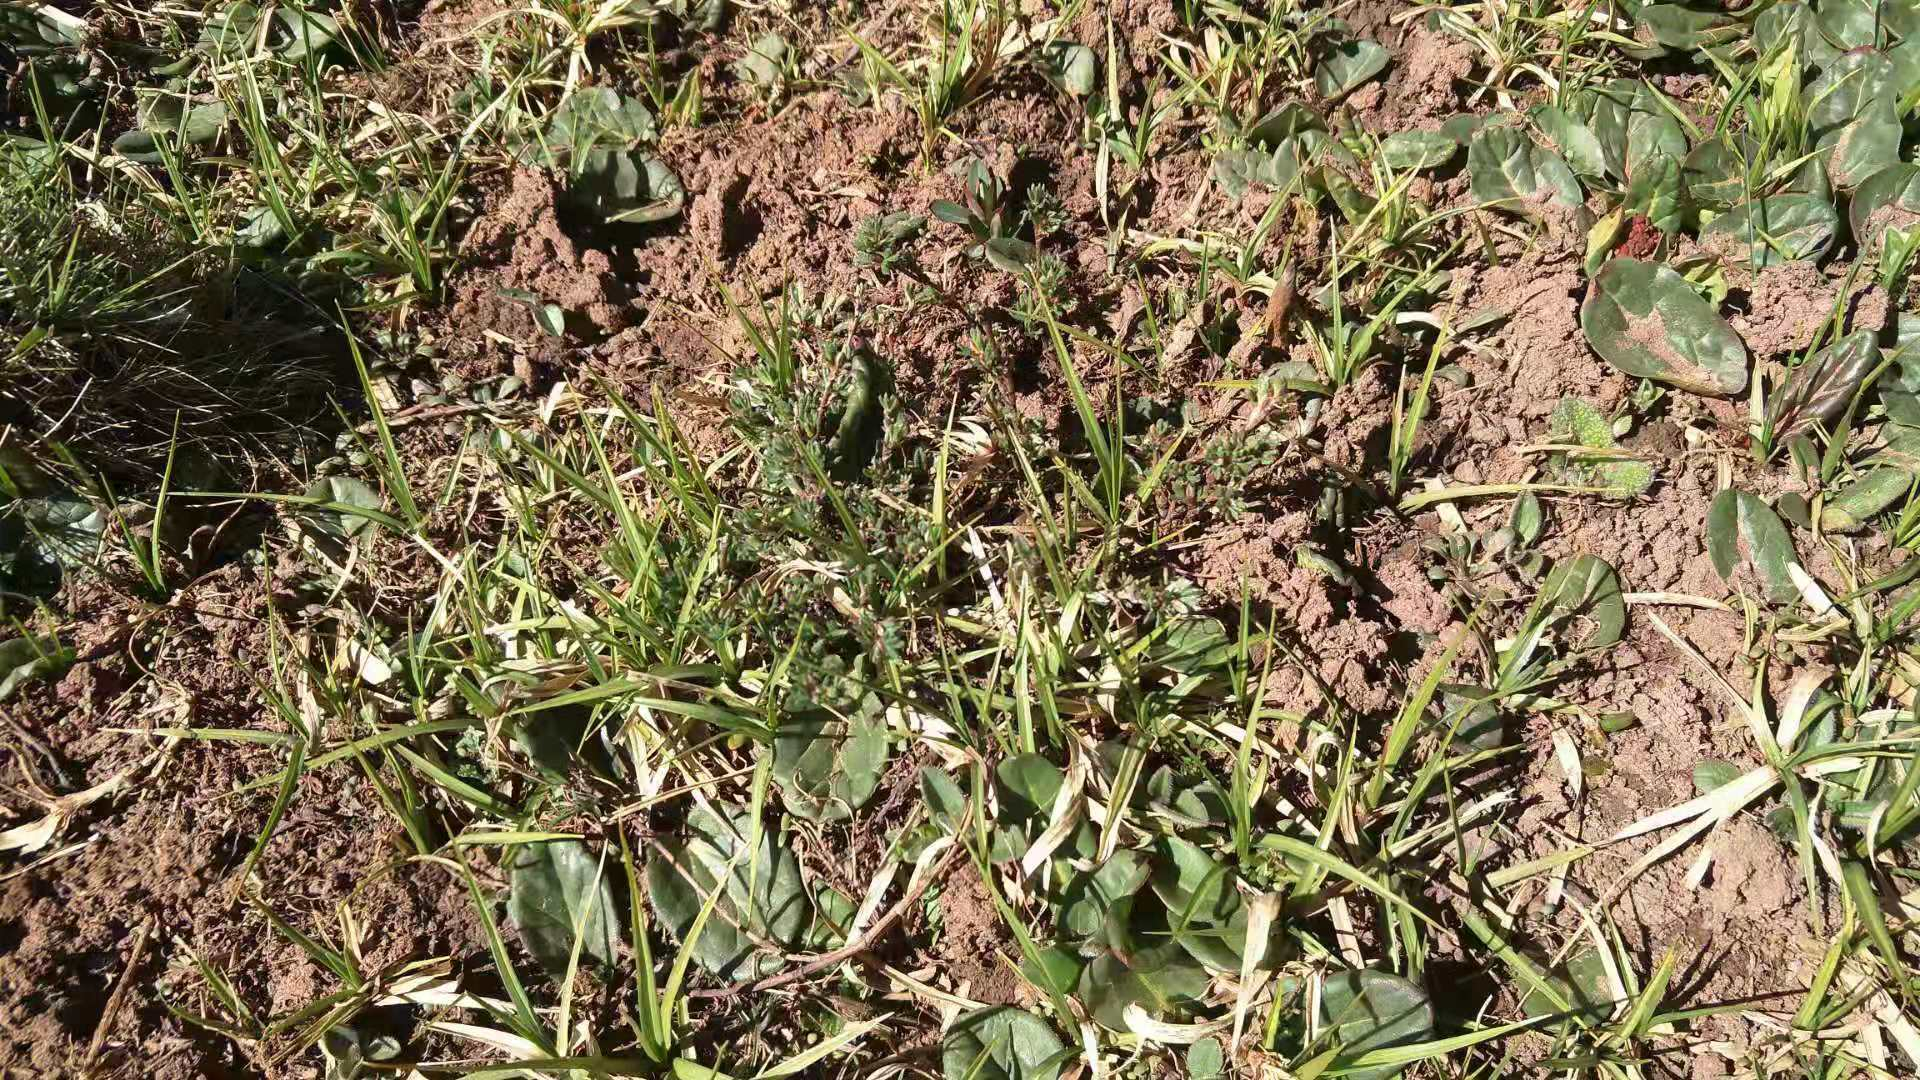Chongcao: (1265, 256, 1296, 348)
